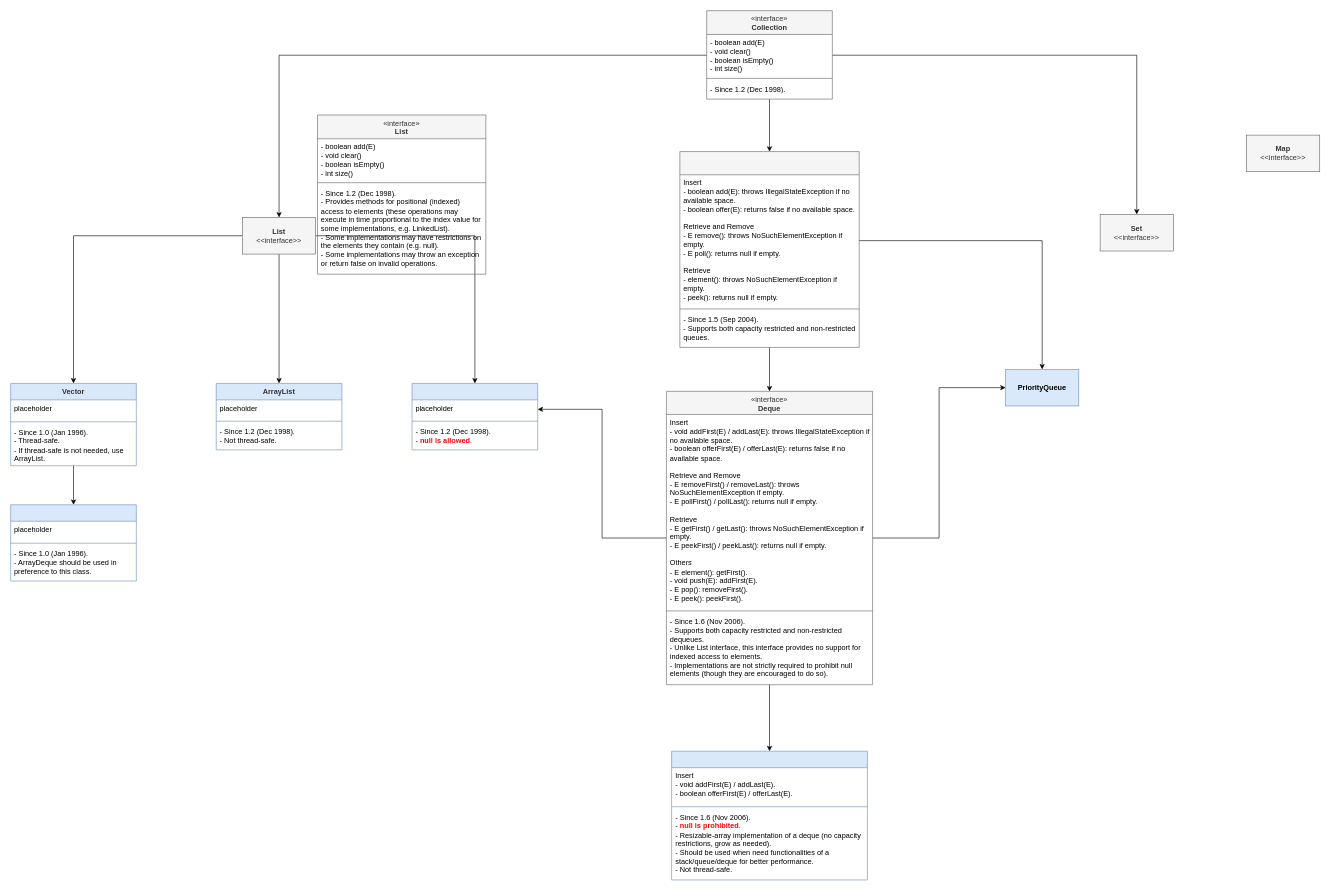
The diagram is 1330 pixels wide and 892 high, and some of its shapes have lost their labels. Here are the shapes that lost their labels. From the top down, the box of each, then its label:
(679, 151, 859, 347): «interface» Queue
(411, 383, 538, 450): LinkedList
(10, 504, 136, 581): Stack
(671, 751, 867, 880): Array Deque
